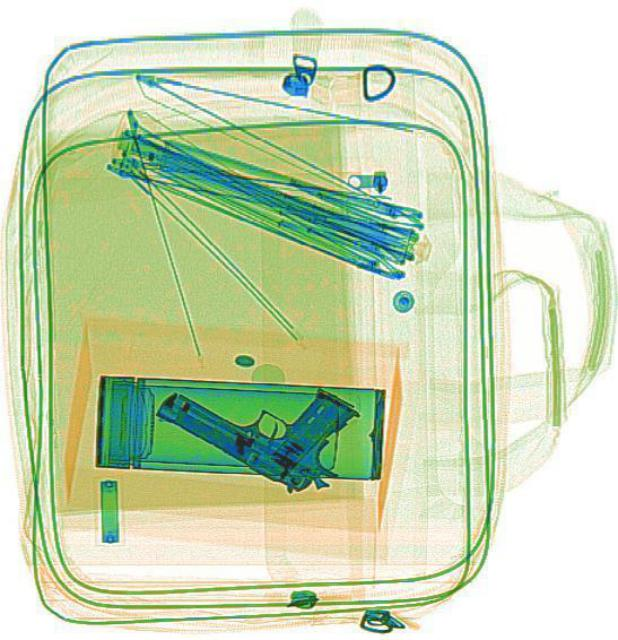Gun: (148, 322, 370, 506)
